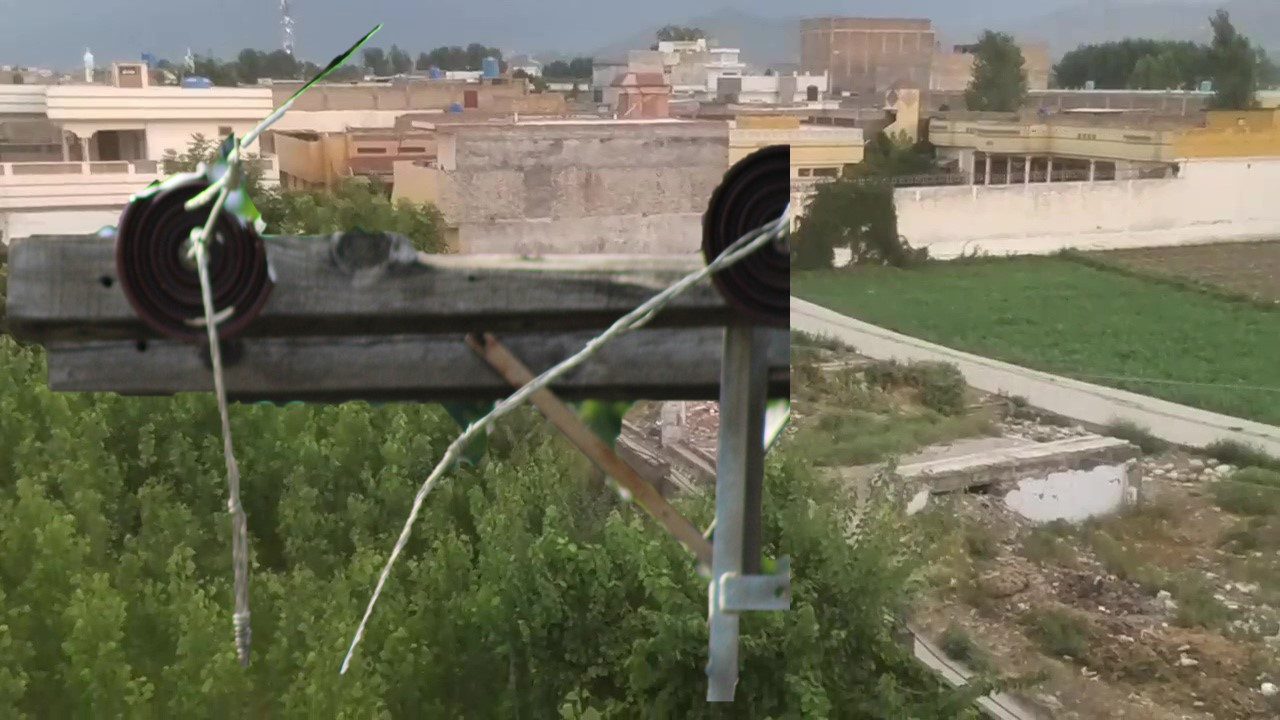defect_disc: (113, 161, 285, 348)
